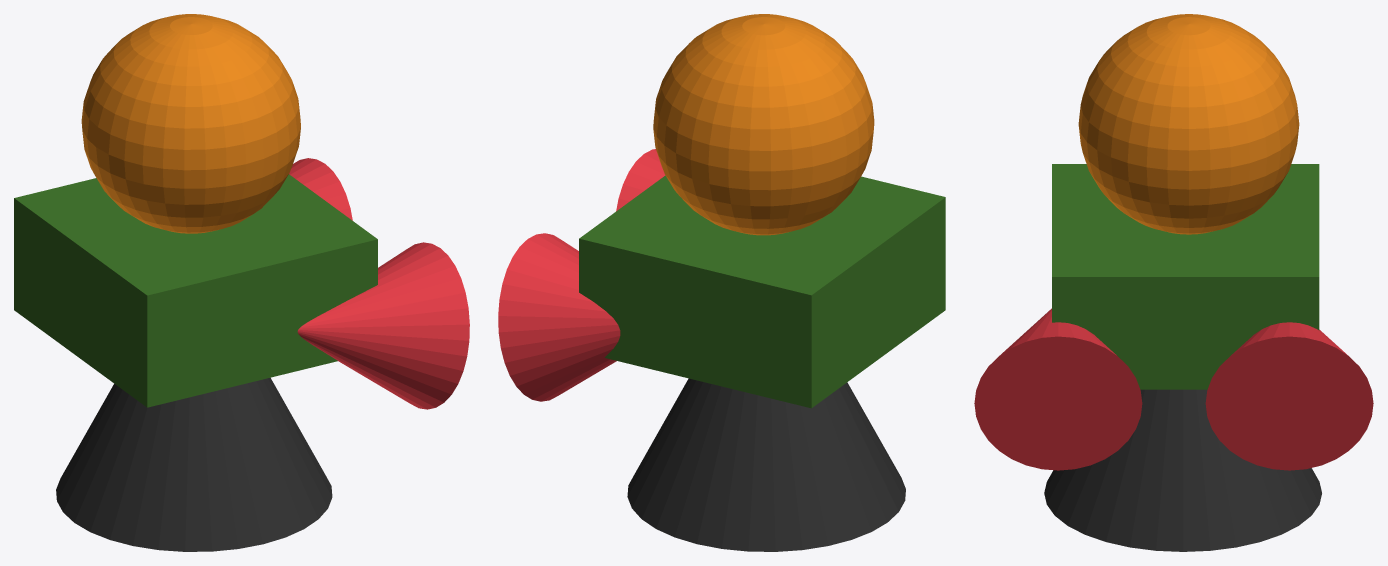
The model's file is boss-1.fbx.
The picture shows the model from 3 angles, left to right: view 1: azimuth 30°, elevation 25°; view 2: azimuth 150°, elevation 25°; view 3: azimuth 270°, elevation 25°; orthographic projection.
Parts seen in each view (by area): view 1: Cubo, Esfera UV, Cone, Cone.001, Cone.002; view 2: Cubo, Esfera UV, Cone, Cone.002, Cone.001; view 3: Cubo, Esfera UV, Cone, Cone.001, Cone.002.
Part boxes in pixels (box(x1,y1,x2,y2)): Cubo: box(14, 174, 377, 407); Esfera UV: box(81, 14, 300, 233); Cone: box(56, 377, 332, 551); Cone.001: box(297, 242, 469, 409); Cone.002: box(289, 158, 352, 220); Cubo: box(579, 175, 945, 408); Esfera UV: box(653, 14, 874, 235); Cone: box(627, 378, 905, 551); Cone.002: box(498, 233, 620, 401); Cone.001: box(616, 149, 665, 211); Cubo: box(1052, 164, 1319, 389); Esfera UV: box(1078, 14, 1299, 234); Cone: box(1044, 389, 1321, 551); Cone.001: box(974, 308, 1142, 470); Cone.002: box(1205, 322, 1373, 470).
Size of the model in its own units: 254 by 372 by 287.
